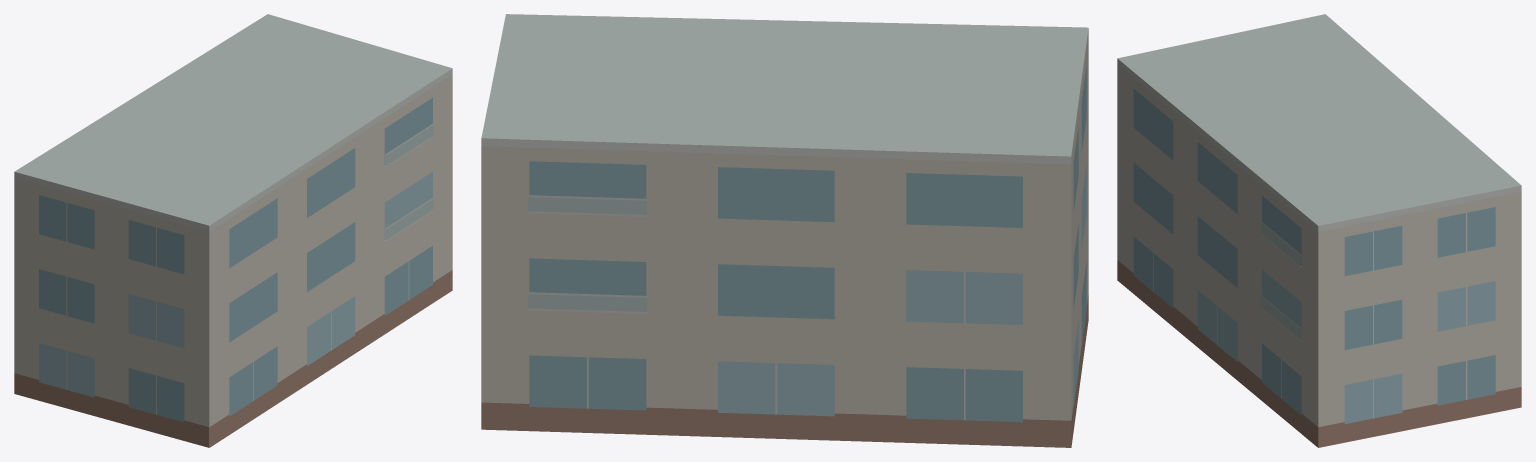
The model's file is survey-upis-32705816.glb.
3 views of the same model, side by side, from view 1: azimuth 30°, elevation 25°; view 2: azimuth 150°, elevation 25°; view 3: azimuth 270°, elevation 25° (orthographic). The views are drawn at different scales.
Visible parts, largest first — view 1: survey-upis-32705816.tmp; view 2: survey-upis-32705816.tmp; view 3: survey-upis-32705816.tmp.
Boxes of the visible parts, x1,y1,x2,y2 form: survey-upis-32705816.tmp: (14, 14, 452, 447); survey-upis-32705816.tmp: (481, 14, 1088, 447); survey-upis-32705816.tmp: (1117, 14, 1521, 447).
Bounding box in the file's own units: 18.75 × 9.15 × 15.12.
